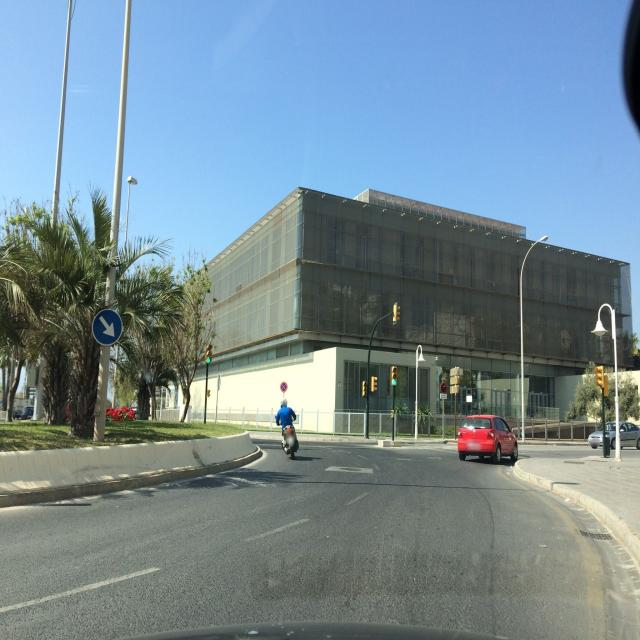bike: (277, 413, 300, 459)
car: (456, 414, 518, 464), (587, 420, 640, 451), (12, 404, 35, 420)
